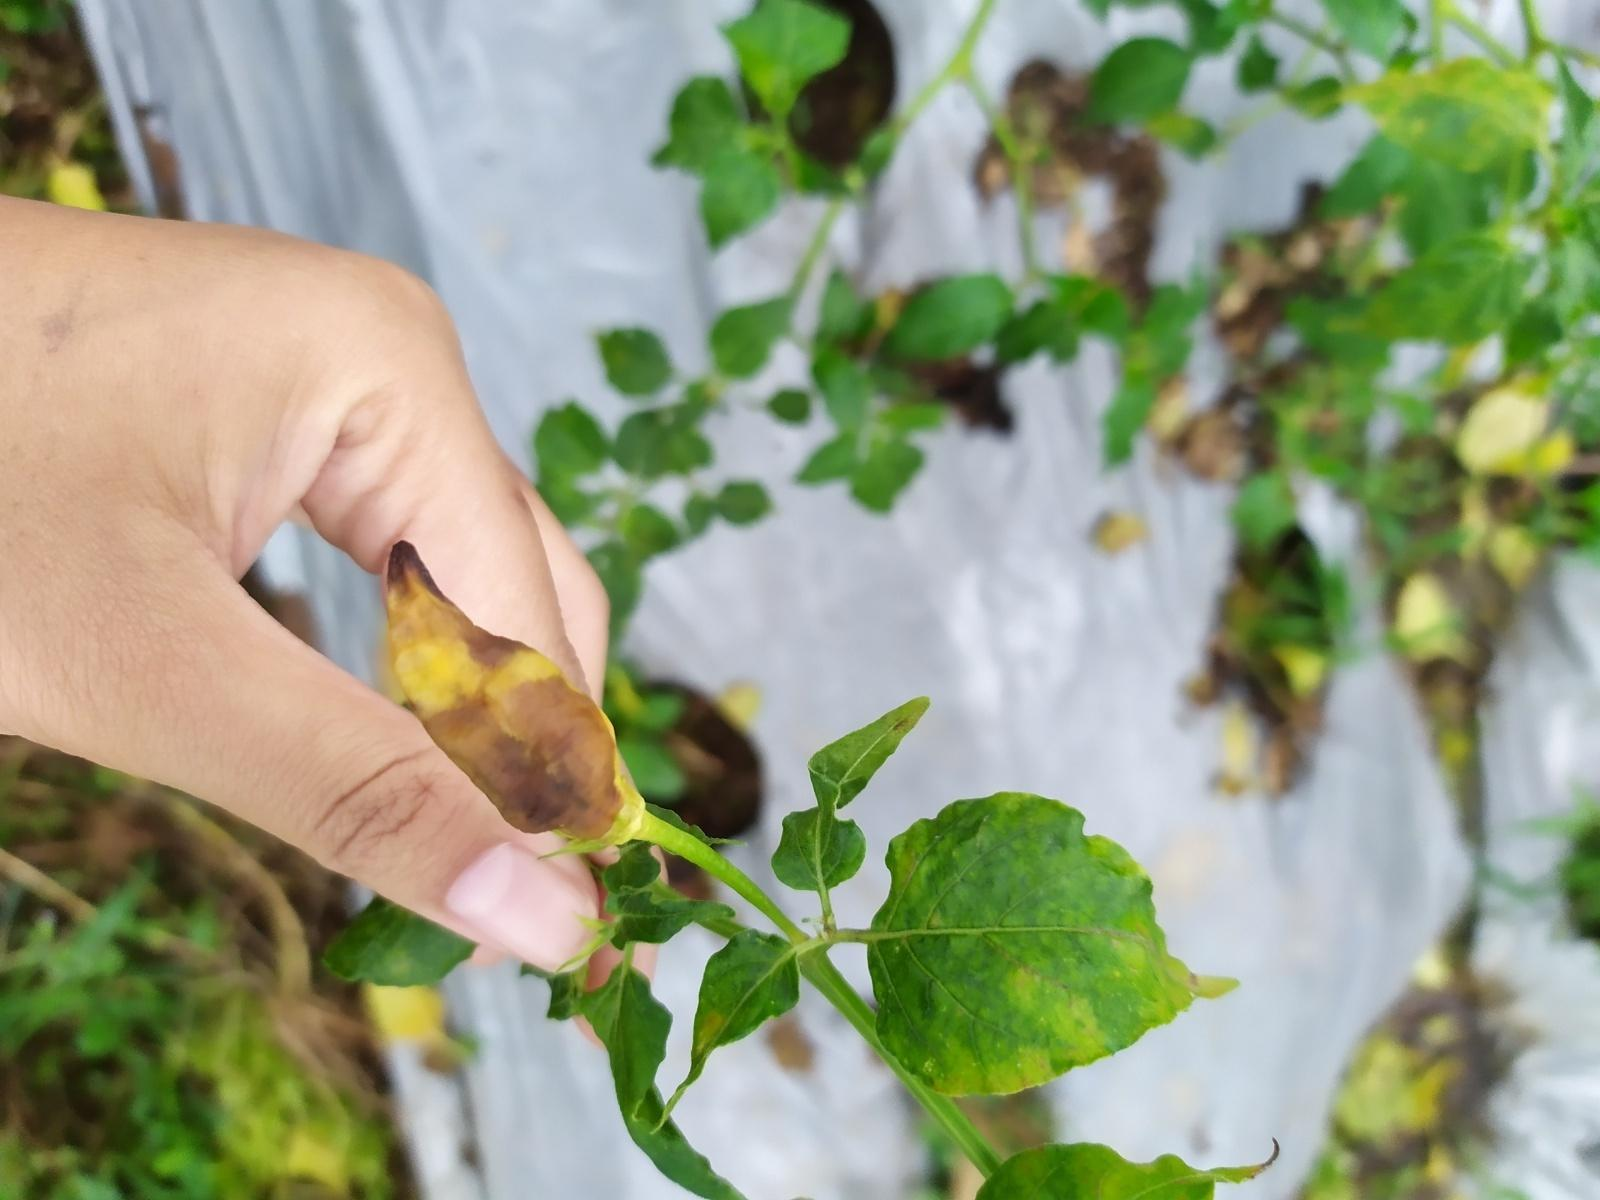lalat_buah: (387, 539, 625, 842)
